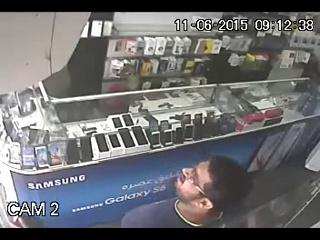Normal: (116, 156, 252, 228)
